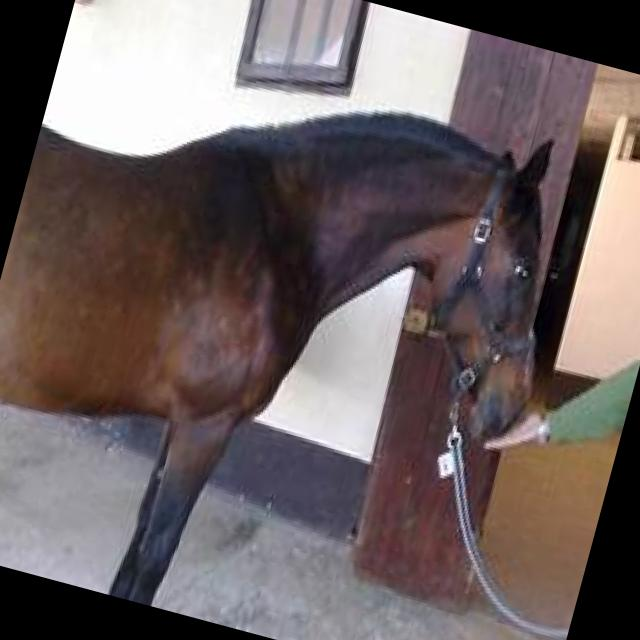animal: (0, 13, 582, 640)
